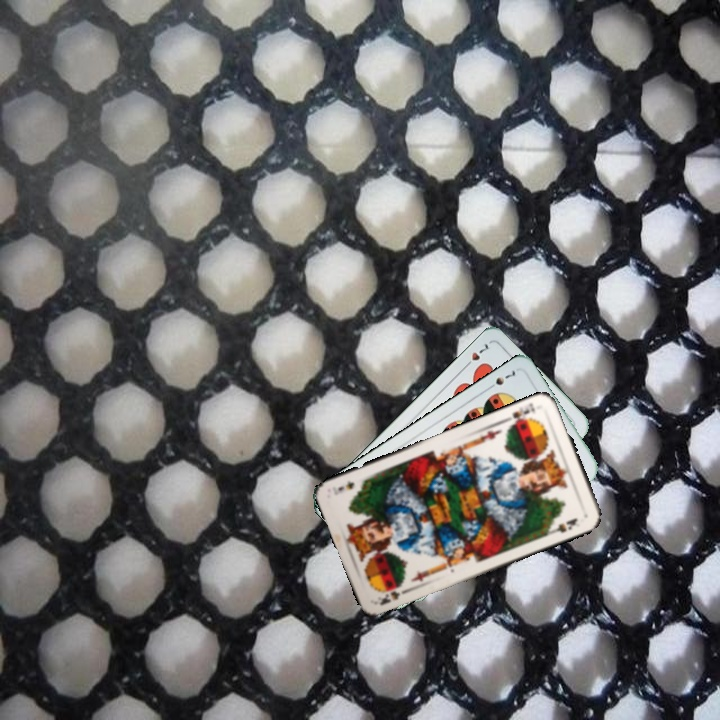H7: (459, 339, 491, 371)
S7: (483, 365, 518, 393)
SK: (506, 399, 537, 429), (376, 584, 413, 608)
